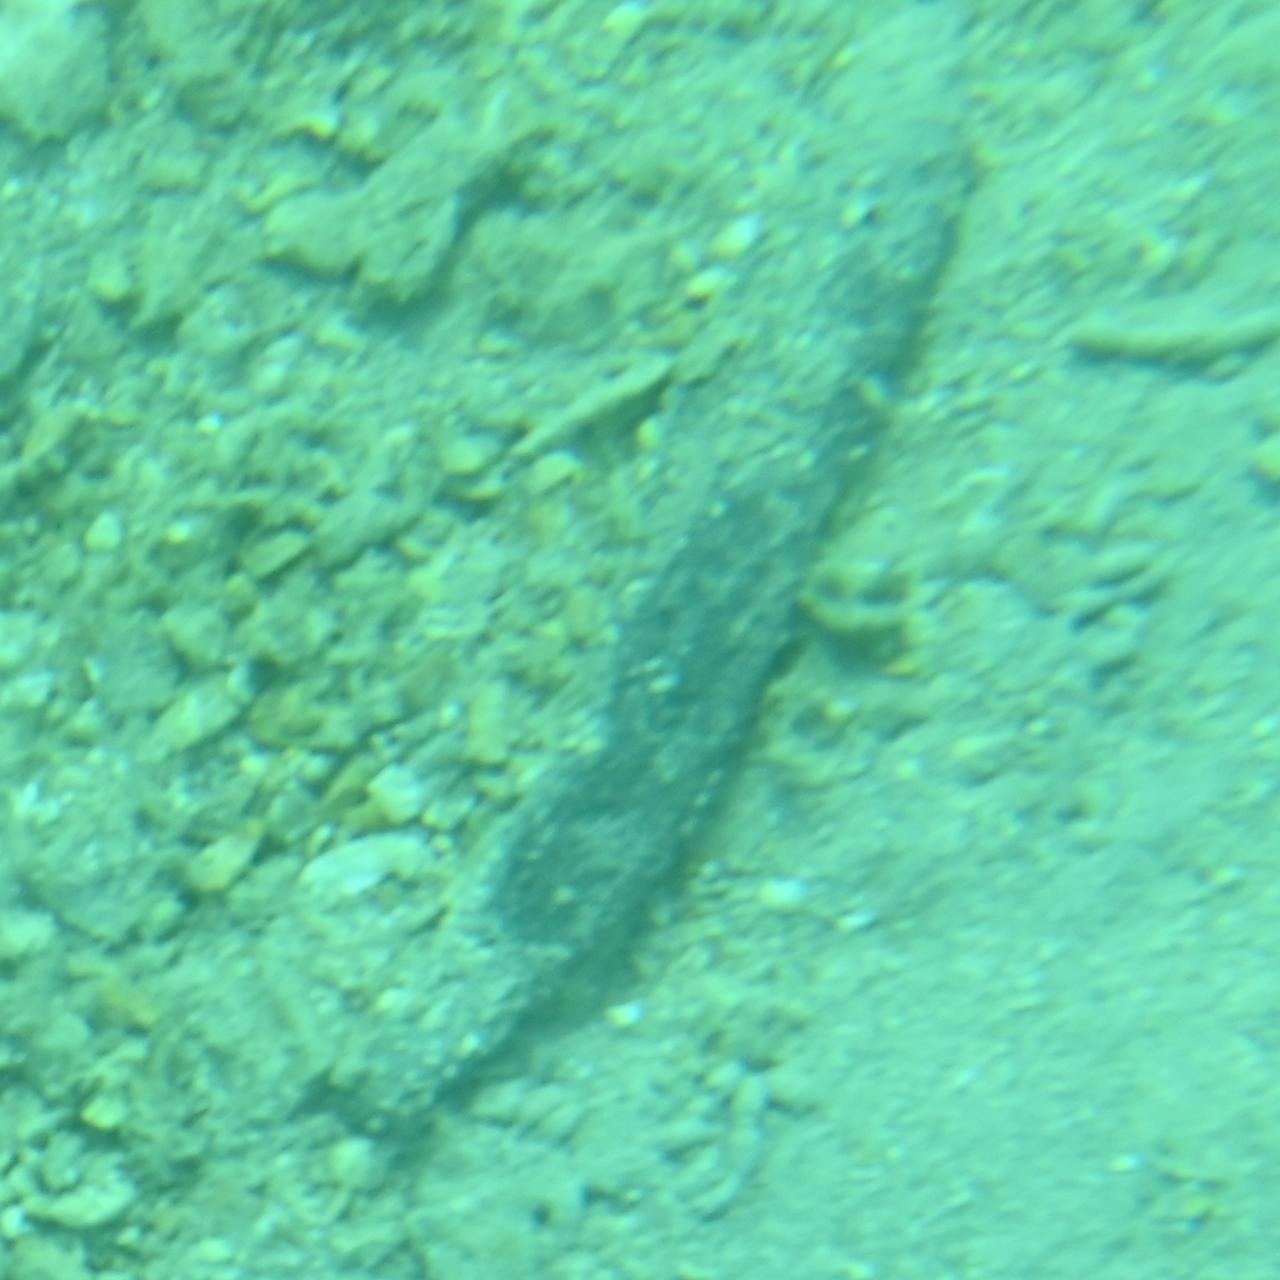Holothuria tubulosa: (298, 118, 982, 1162)
